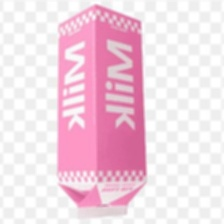carton: (52, 2, 149, 222)
